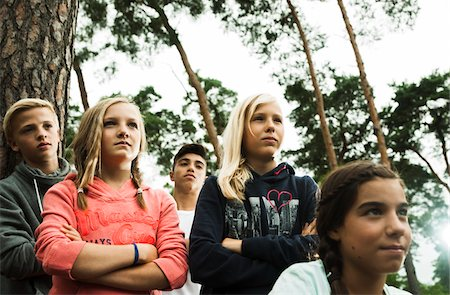Person: (34, 93, 195, 295), (183, 87, 324, 295), (272, 158, 435, 295), (3, 95, 88, 295), (153, 137, 213, 295)
